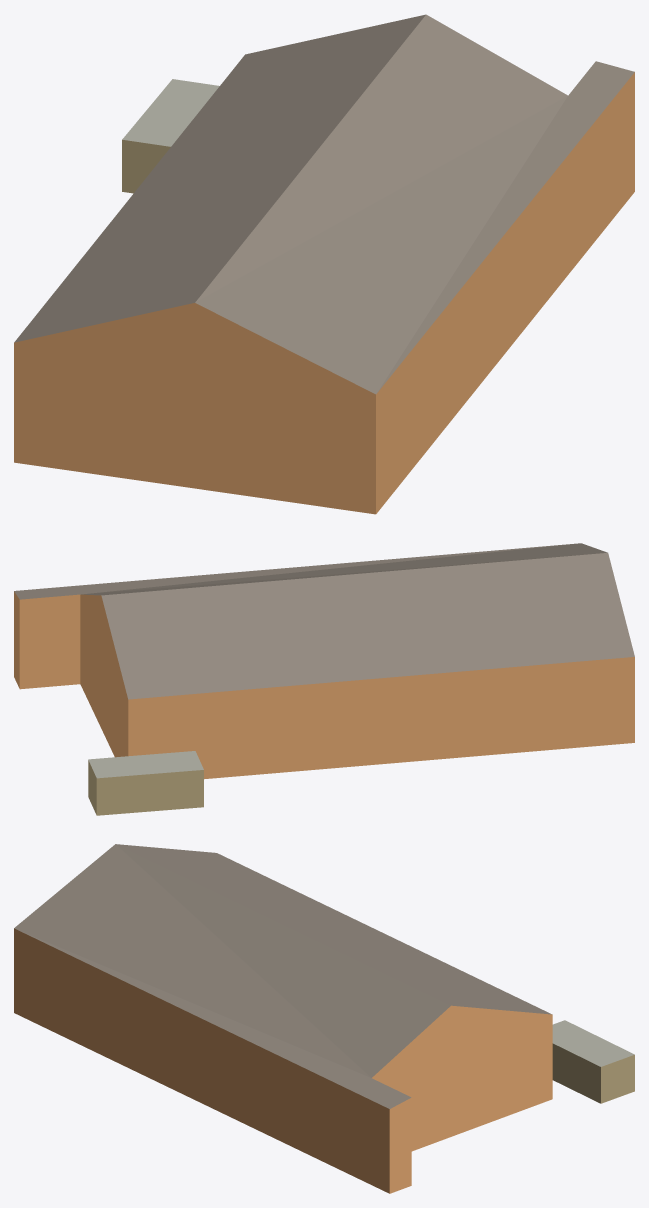
Rendered from buildings.dae.
3 views of the same model, one above another, from view 1: azimuth 30°, elevation 25°; view 2: azimuth 150°, elevation 25°; view 3: azimuth 270°, elevation 25° (orthographic). The views are drawn at different scales.
Parts seen in each view (by area): view 1: map_12.osm_buildings.003, map_11.osm_buildings.001; view 2: map_12.osm_buildings.003, map_11.osm_buildings.001; view 3: map_12.osm_buildings.003, map_11.osm_buildings.001.
Boxes of the visible parts, x1,y1,x2,y2 form: map_12.osm_buildings.003: [14, 14, 634, 514]; map_11.osm_buildings.001: [122, 79, 219, 193]; map_12.osm_buildings.003: [14, 543, 634, 779]; map_11.osm_buildings.001: [88, 751, 203, 815]; map_12.osm_buildings.003: [14, 844, 552, 1193]; map_11.osm_buildings.001: [552, 1020, 634, 1103].
Size of what is drawn, in the model's own units: 99.28 by 102 by 23.71.
